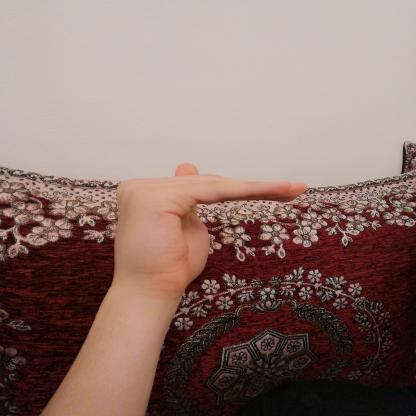KHAA: (98, 155, 326, 299)
